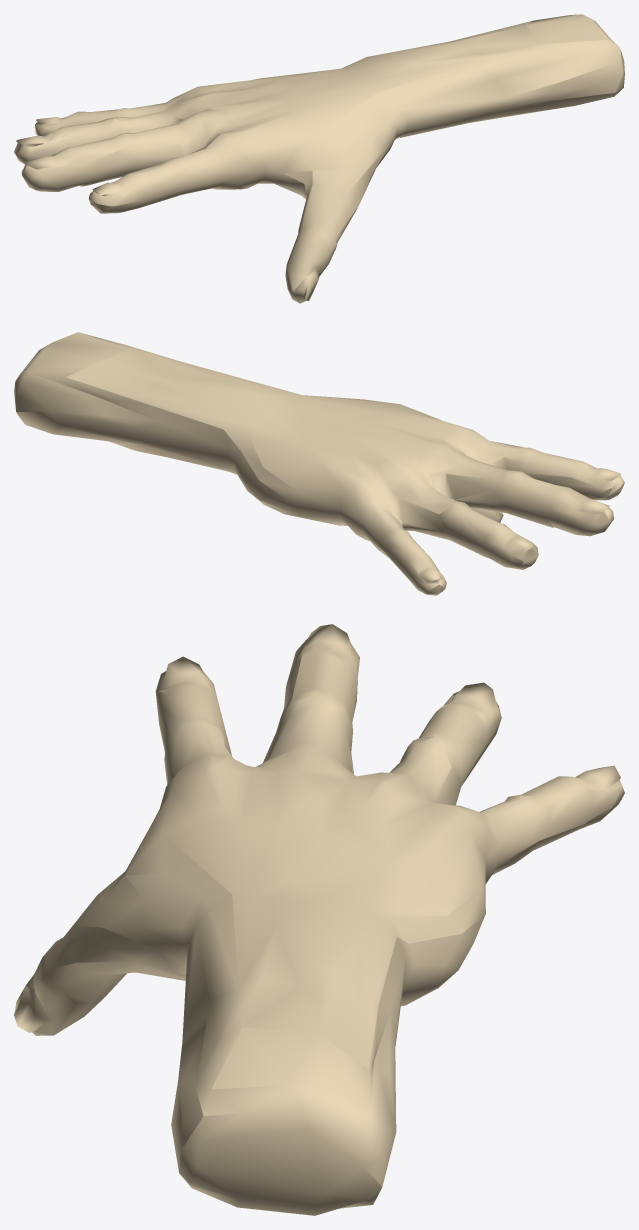
File: Hand.fbx
3 renders of one model, top to bottom at view 1: azimuth 30°, elevation 25°; view 2: azimuth 150°, elevation 25°; view 3: azimuth 270°, elevation 25°, orthographic. The views are drawn at different scales.
Visible parts, largest first — view 1: ZBrushPolyMesh3D; view 2: ZBrushPolyMesh3D; view 3: ZBrushPolyMesh3D.
Boxes of the visible parts, x1,y1,x2,y2 form: ZBrushPolyMesh3D: (14, 14, 624, 303); ZBrushPolyMesh3D: (14, 332, 624, 595); ZBrushPolyMesh3D: (14, 624, 624, 1215).
Size of the model in its own units: 6.6 by 1.63 by 3.34.
